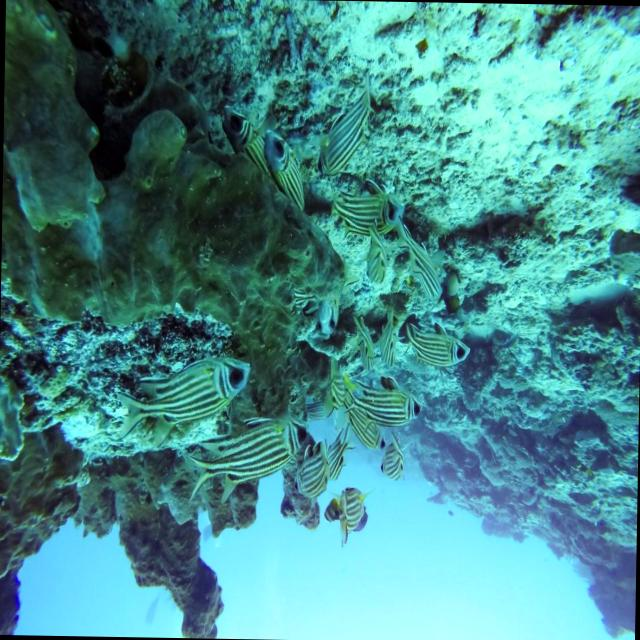Asker Baligi: (114, 352, 252, 450), (190, 396, 311, 502), (313, 91, 374, 182), (394, 313, 482, 371), (330, 186, 404, 247), (351, 370, 424, 430)
